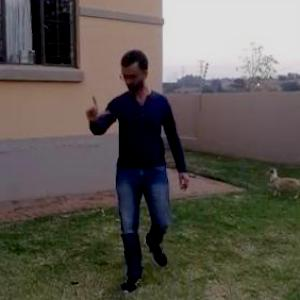land_hand: (79, 87, 115, 131)
